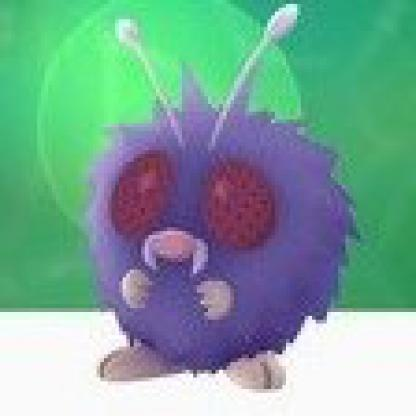Venonat: (66, 1, 371, 398)
